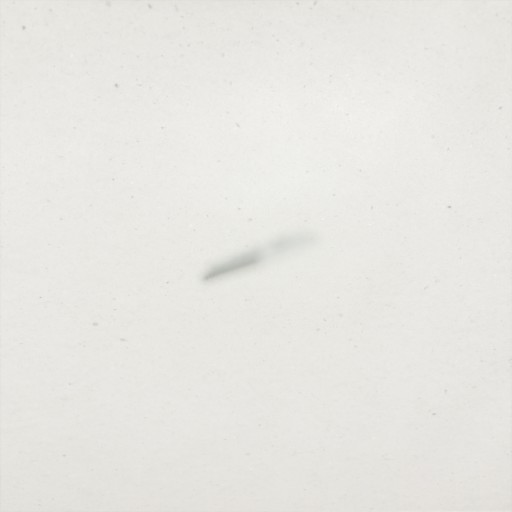lego: (198, 228, 322, 286)
